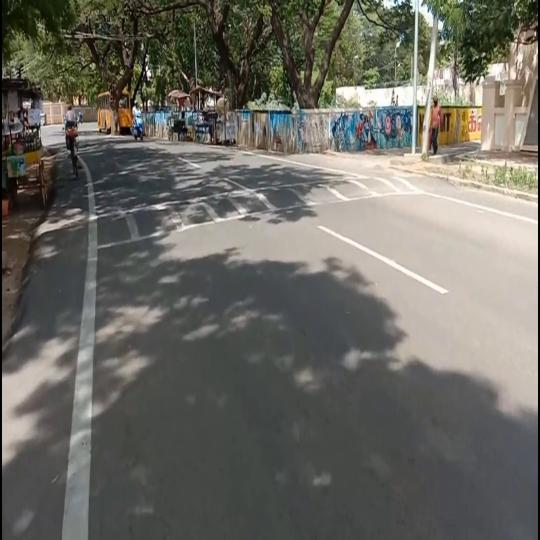Speed Bump: (31, 174, 452, 257)
